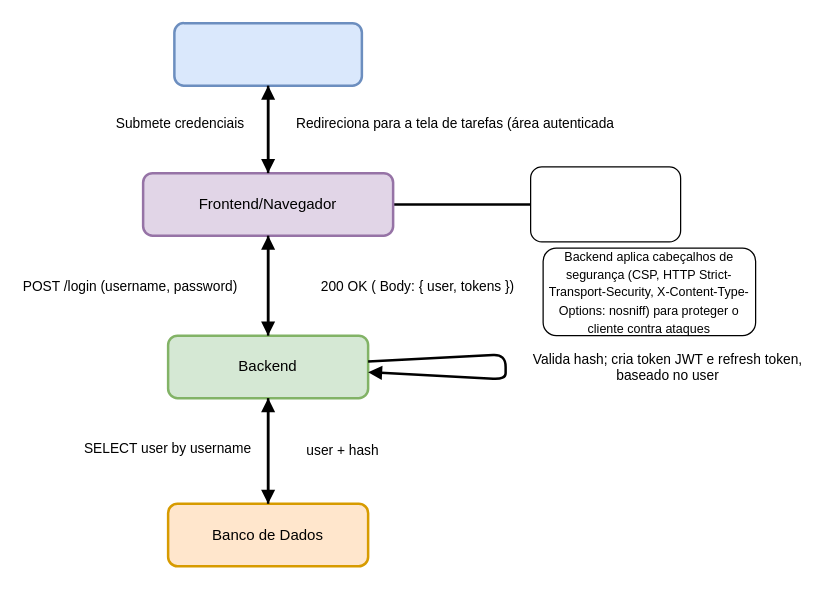
Some shapes in this 825 by 589 pixel diagram are drawn without their labels. The shapes that lost their labels are listed below. From the top down, each one's centre as x and y in pixels, then its label:
point (267, 53): Usuário
point (605, 204): Armazena tokens de forma segura
